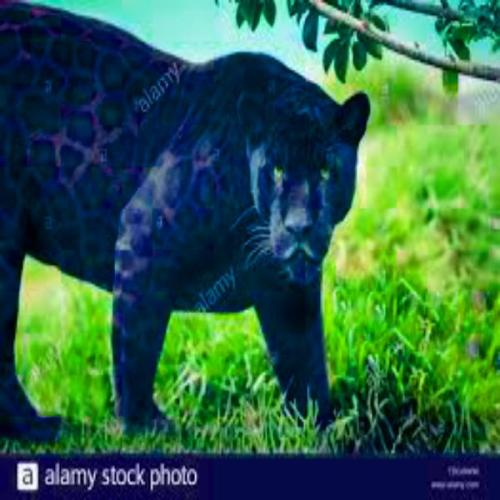panther-endangered: (0, 0, 372, 436)
